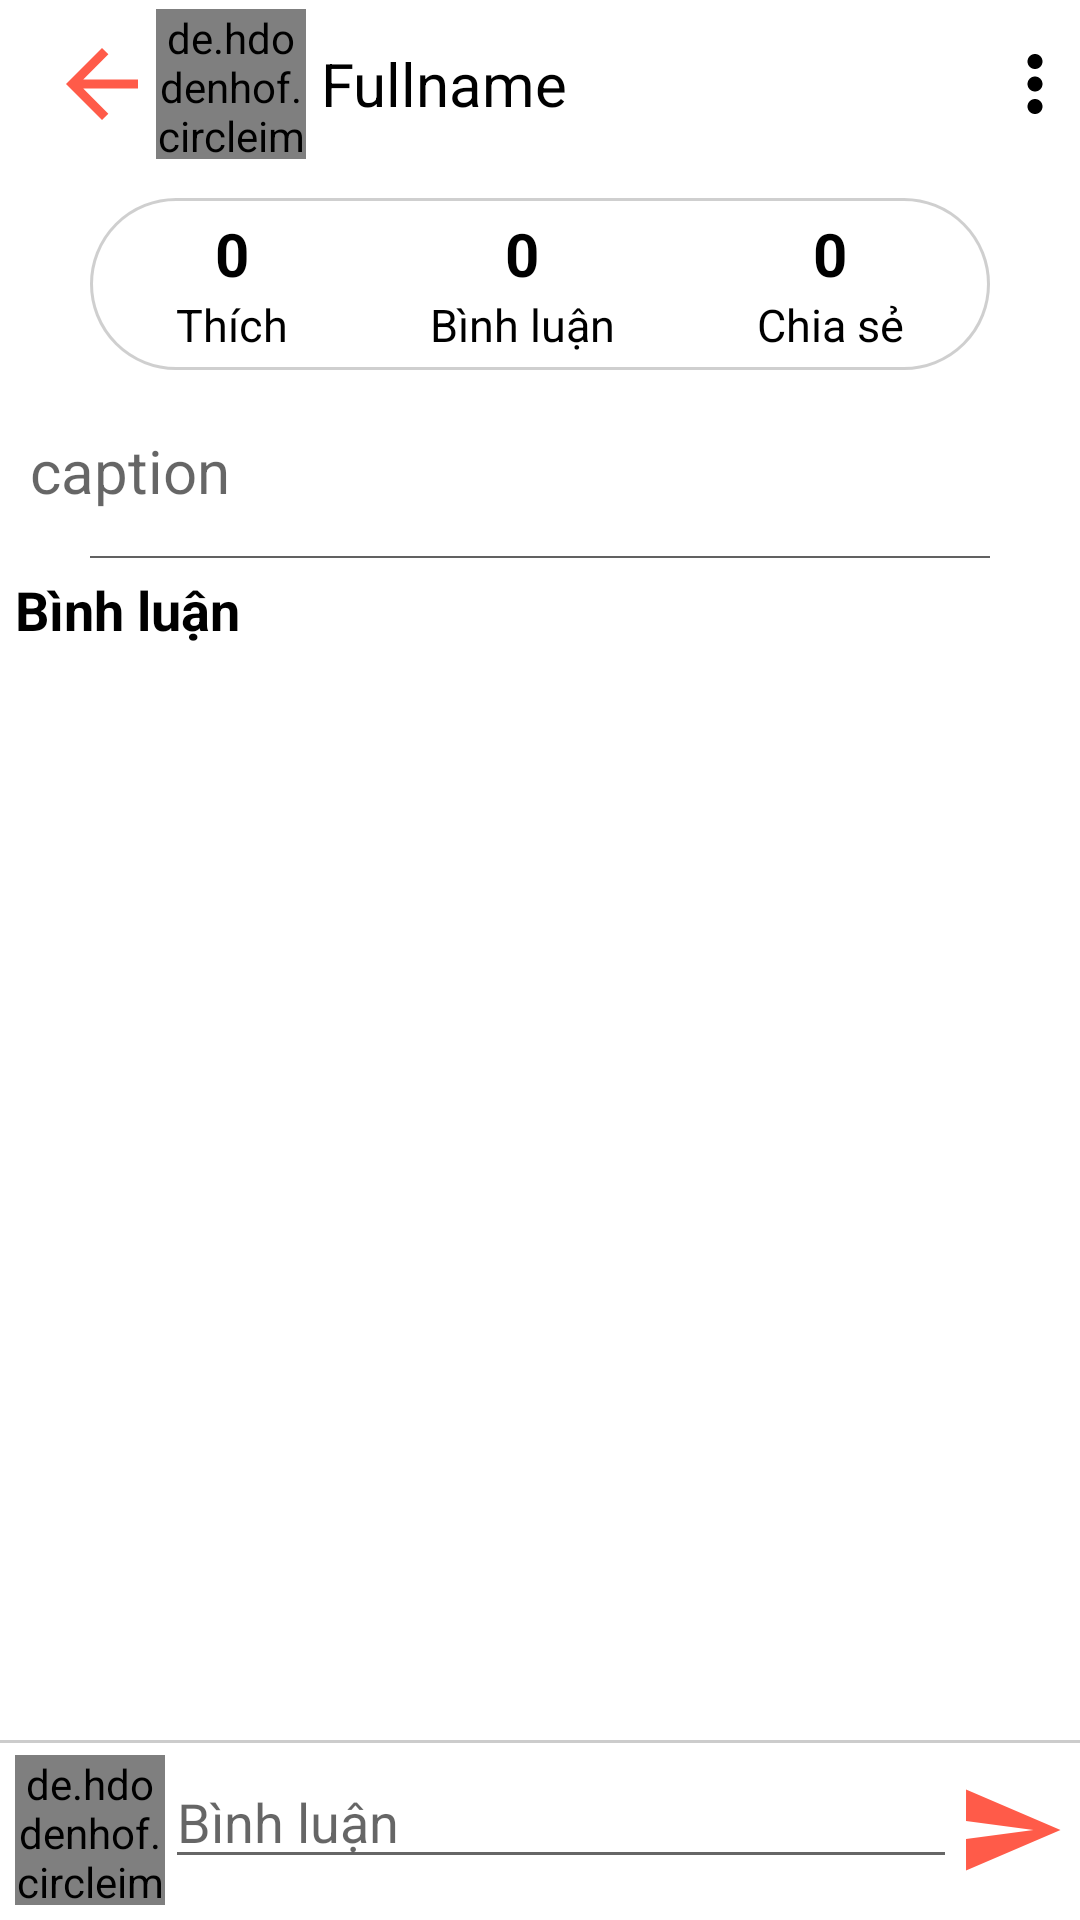

Named icons in this screenshot (1080×1920) and their centers, (x,y):
arrow back: (102,84)
more vert: (1035,84)
send: (1013,1830)
